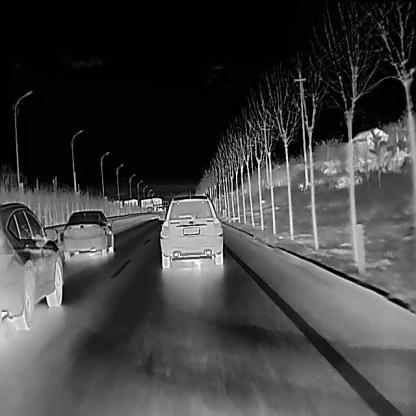car: (0, 201, 62, 331), (159, 191, 223, 266), (60, 207, 114, 257), (145, 203, 156, 215)
